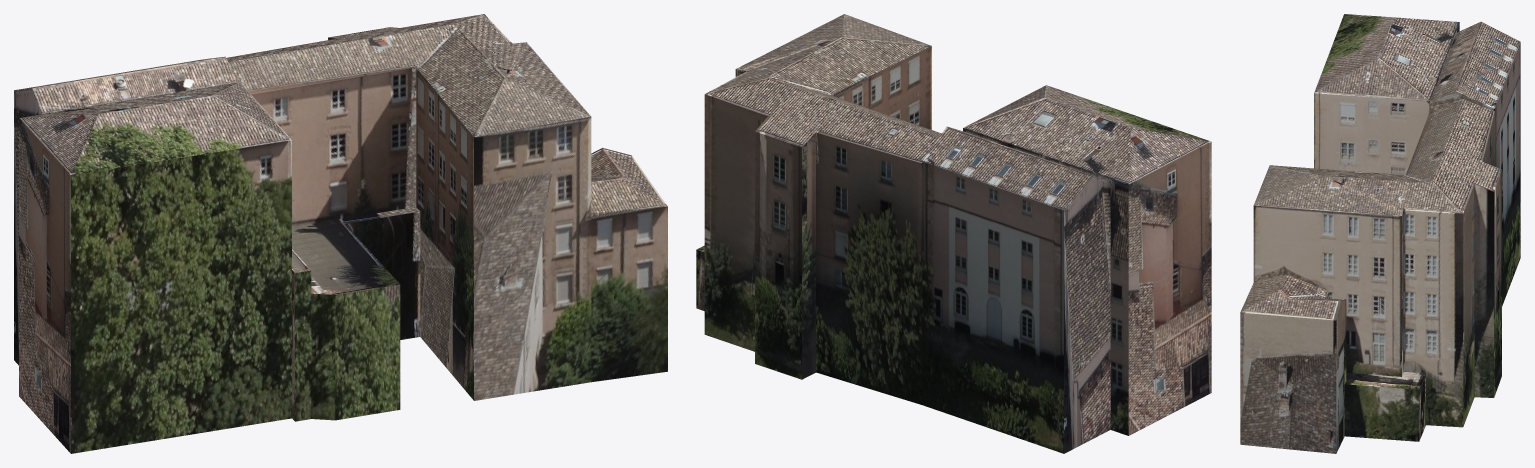
The picture shows the model from 3 angles, left to right: view 1: azimuth 30°, elevation 25°; view 2: azimuth 150°, elevation 25°; view 3: azimuth 270°, elevation 25°; orthographic projection. The views are drawn at different scales.
Visible parts, largest first — view 1: Z_UP; view 2: Z_UP; view 3: Z_UP.
Boxes of the visible parts, bbox=[...] form: Z_UP: bbox=[14, 14, 667, 453]; Z_UP: bbox=[696, 14, 1211, 453]; Z_UP: bbox=[1240, 14, 1520, 453].
Bounding box in the file's own units: 47.81 × 24.9 × 26.11.
2 materials, 1 textured.
